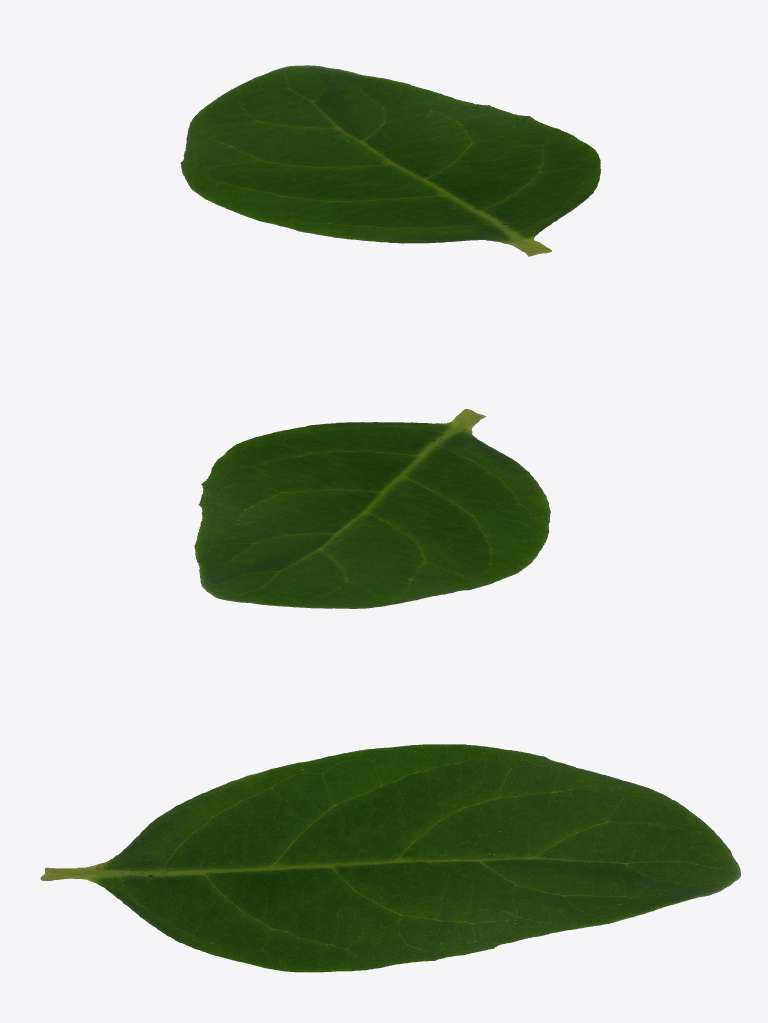
File: leaf.fbx
3 views of the same model, one above another, from view 1: azimuth 30°, elevation 25°; view 2: azimuth 150°, elevation 25°; view 3: azimuth 270°, elevation 25° (orthographic). The views are drawn at different scales.
Parts seen in each view (by area): view 1: Plane_remesh; view 2: Plane_remesh; view 3: Plane_remesh.
Part boxes in pixels (box(x1,y1,x2,y2)): Plane_remesh: box(180, 65, 600, 256); Plane_remesh: box(194, 409, 550, 608); Plane_remesh: box(40, 744, 740, 972).
Size of the model in its own units: 400 by 2.49 by 400.
Materials: 1 (1 with a texture image).
